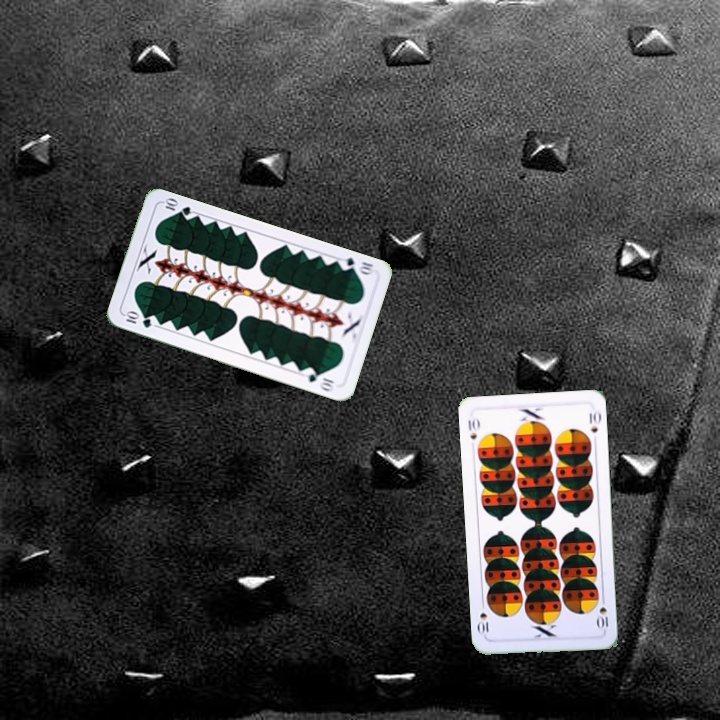G10: (335, 253, 377, 278), (121, 308, 154, 331)
S10: (594, 592, 611, 633), (464, 415, 479, 442)
